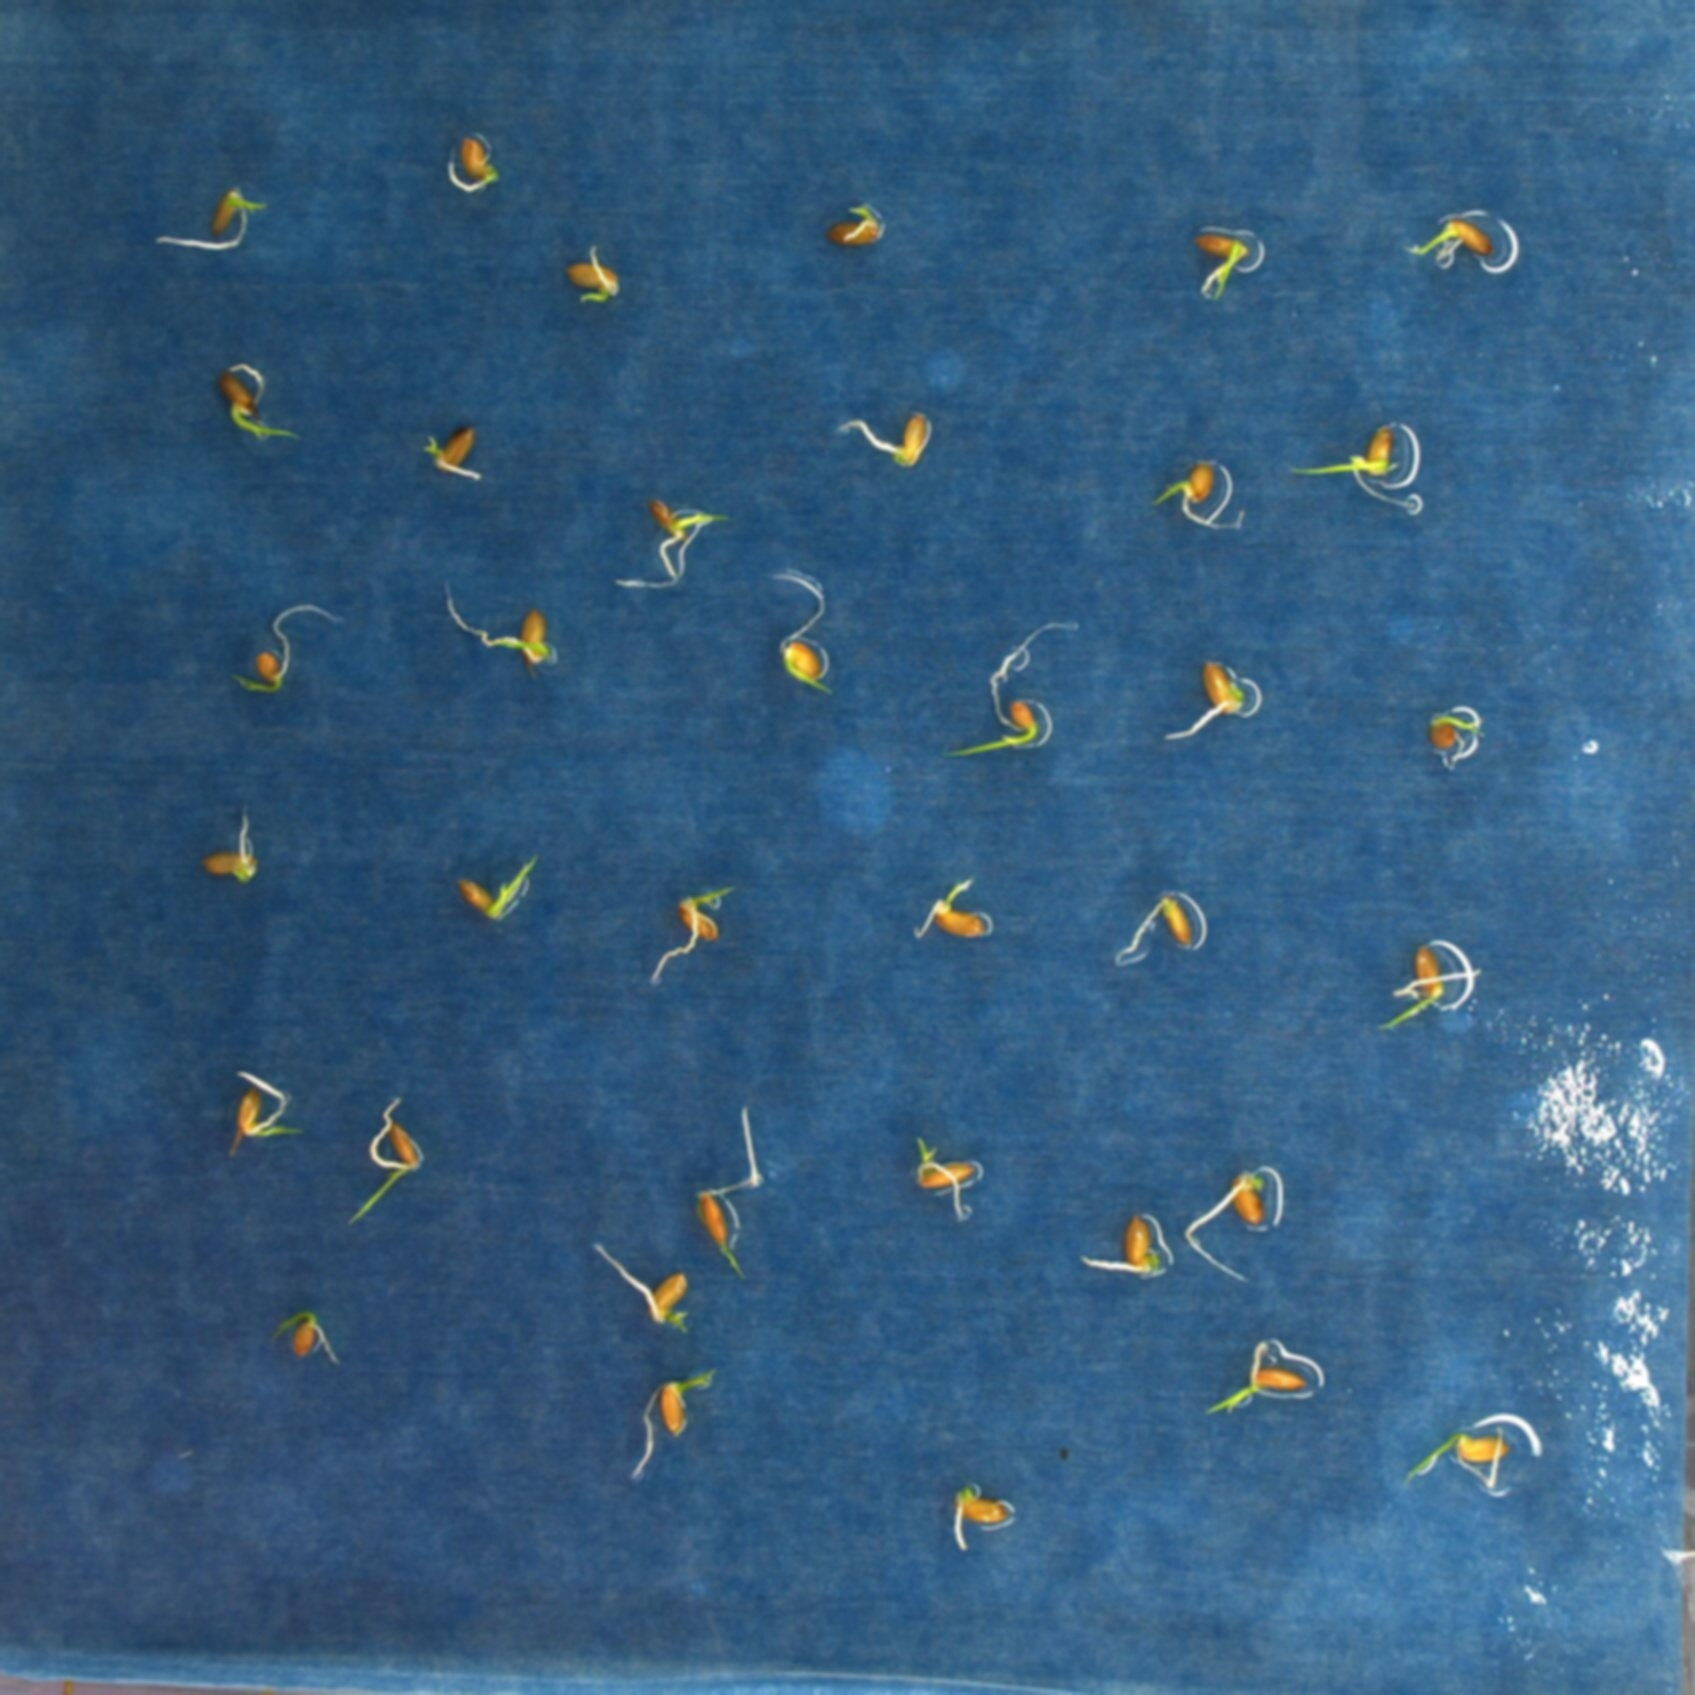not sprout: (1181, 1170, 1267, 1285), (1079, 1209, 1167, 1284), (840, 408, 933, 470), (951, 1481, 1017, 1555), (203, 807, 258, 885), (424, 427, 481, 481)
sprout: (941, 619, 1080, 761), (695, 1108, 765, 1281), (1291, 421, 1420, 508), (618, 495, 731, 591), (230, 601, 345, 695), (632, 1367, 716, 1482), (351, 1094, 424, 1226), (442, 579, 551, 667), (588, 1242, 688, 1335), (1380, 941, 1481, 1032), (647, 885, 736, 987), (1203, 1336, 1312, 1419), (155, 185, 269, 251), (1400, 1423, 1515, 1489), (771, 571, 830, 697), (230, 1066, 307, 1155), (1152, 459, 1245, 531), (1167, 660, 1245, 744), (217, 371, 307, 441), (456, 854, 542, 924), (1114, 893, 1195, 962), (913, 875, 995, 944), (917, 1138, 979, 1220), (1411, 217, 1495, 272), (272, 1312, 343, 1369), (1197, 231, 1253, 303), (567, 244, 622, 307), (445, 135, 500, 196), (827, 203, 885, 248), (1426, 706, 1478, 753)
